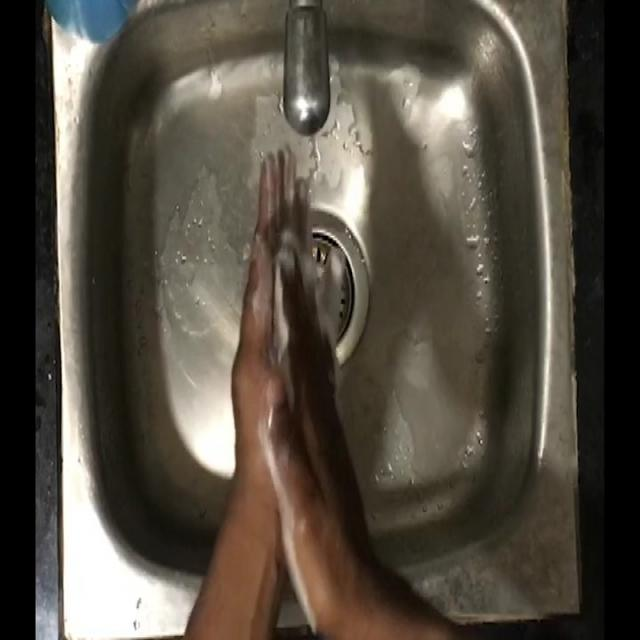step_1: (218, 130, 357, 463)
